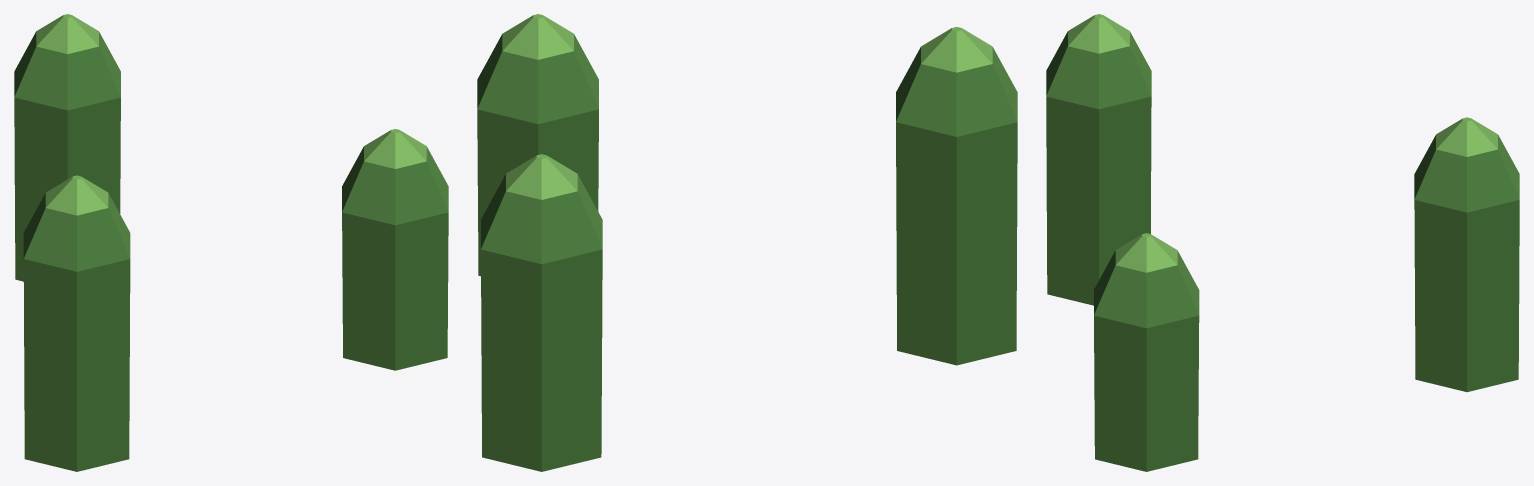
The model's file is cactus-3.glb.
3 views of the same model, side by side, from view 1: azimuth 30°, elevation 25°; view 2: azimuth 150°, elevation 25°; view 3: azimuth 270°, elevation 25° (orthographic). The views are drawn at different scales.
Parts seen in each view (by area): view 1: cactus-3; view 2: cactus-3; view 3: cactus-3.
Boxes of the visible parts, x1,y1,x2,y2 form: cactus-3: (14, 14, 448, 471); cactus-3: (477, 14, 1017, 471); cactus-3: (1046, 14, 1519, 471).
Bounding box in the file's own units: 0.5155 × 0.315 × 0.4766.
1 material, 1 textured.
